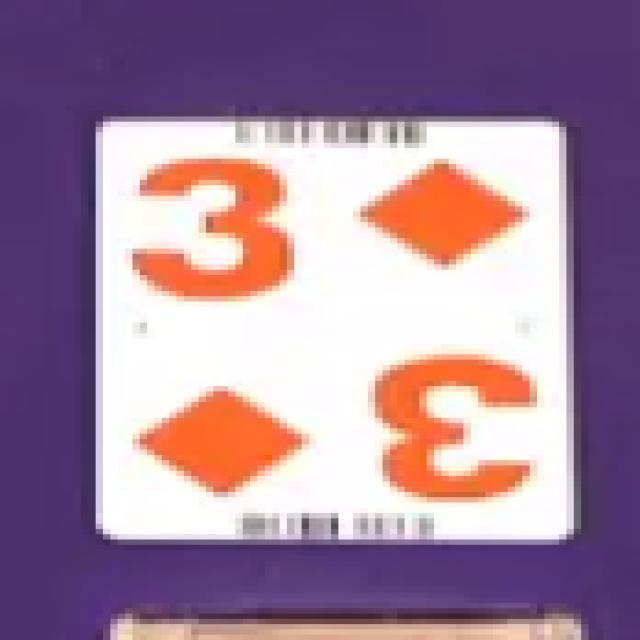Card-3: (104, 118, 567, 540)
